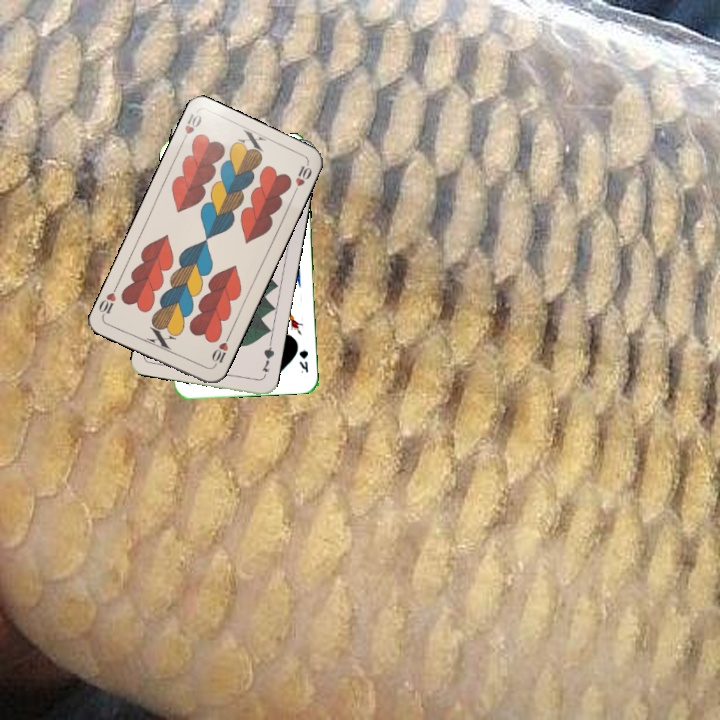G7: (258, 340, 277, 380)
GK: (295, 344, 311, 375)
H10: (177, 109, 204, 147), (208, 332, 232, 370)
